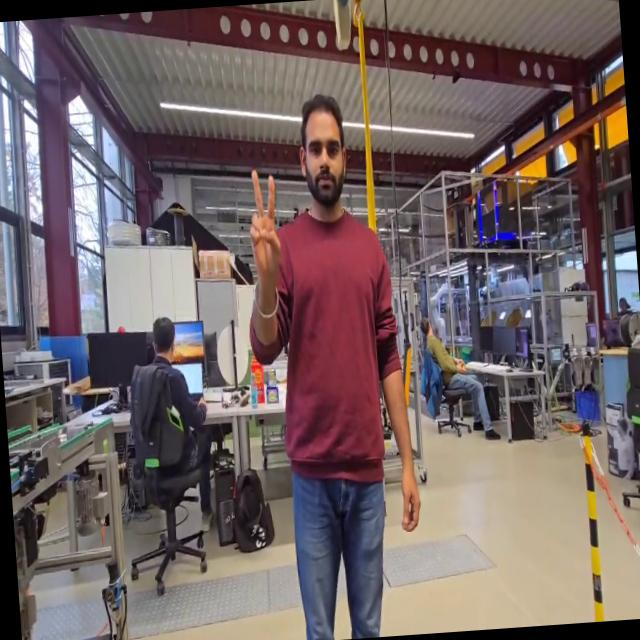v_sign: (242, 164, 286, 288)
